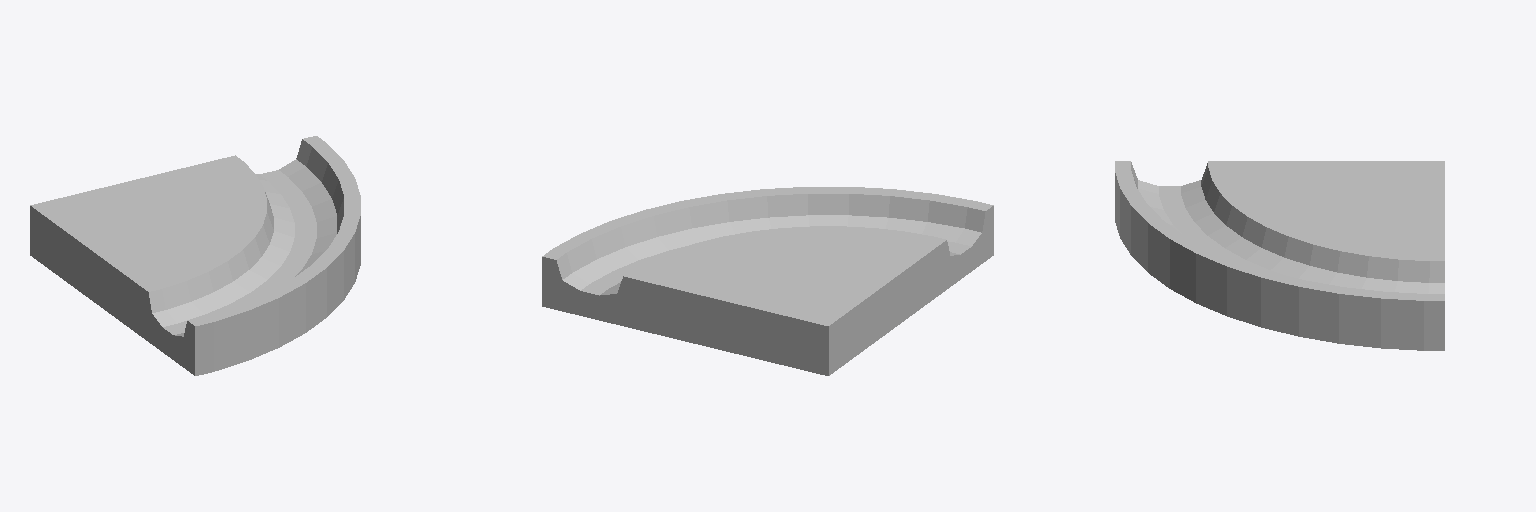
Rendered from curve-solid-large.obj.
3 views of the same model, side by side, from view 1: azimuth 30°, elevation 25°; view 2: azimuth 150°, elevation 25°; view 3: azimuth 270°, elevation 25° (orthographic).
Visible parts, largest first — view 1: curve-solid-large; view 2: curve-solid-large; view 3: curve-solid-large.
Boxes of the visible parts, x1,y1,x2,y2 form: curve-solid-large: [30, 136, 360, 375]; curve-solid-large: [542, 187, 993, 375]; curve-solid-large: [1115, 161, 1444, 350].
Size of the model in its own units: 3 by 0.5 by 3.